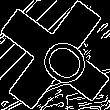O_NW: (21, 22, 89, 88)
